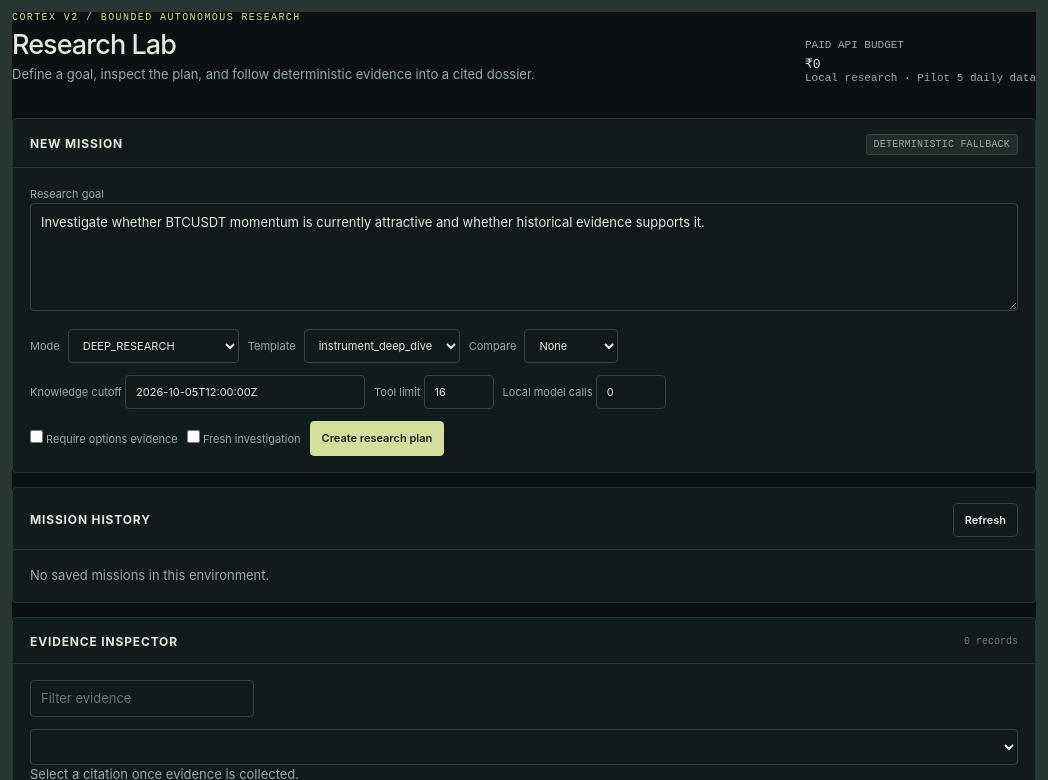
Scenario: Research Lab › cancels an active mission while preserving recorded evidence
The width and height of the screenshot is (1048, 780).
Click the button "Create research plan" at coordinates (377, 438), box [310, 421, 444, 456]
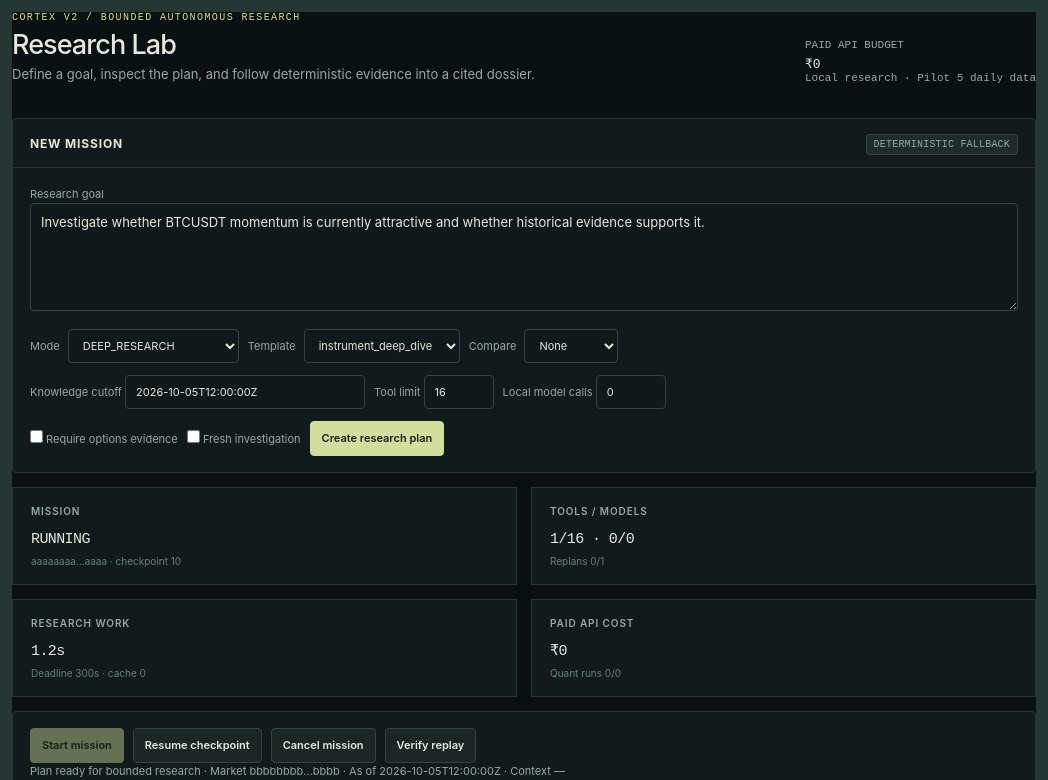
Check: the text "RUNNING" is shown, box [31, 530, 90, 548]
Click the button "Cancel mission" at coordinates (323, 745), box [271, 728, 376, 762]
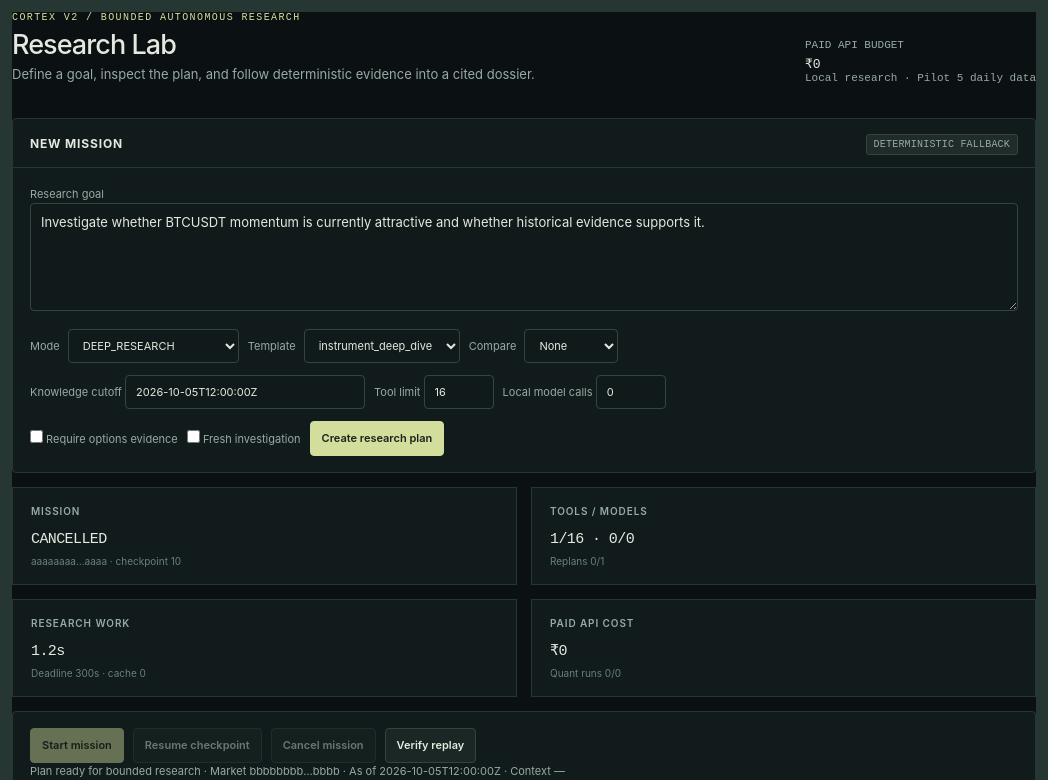
Check: the text "CANCELLED" is shown, box [31, 530, 107, 548]
Check: the button "Resume checkpoint" is disabled, box [133, 728, 262, 762]
